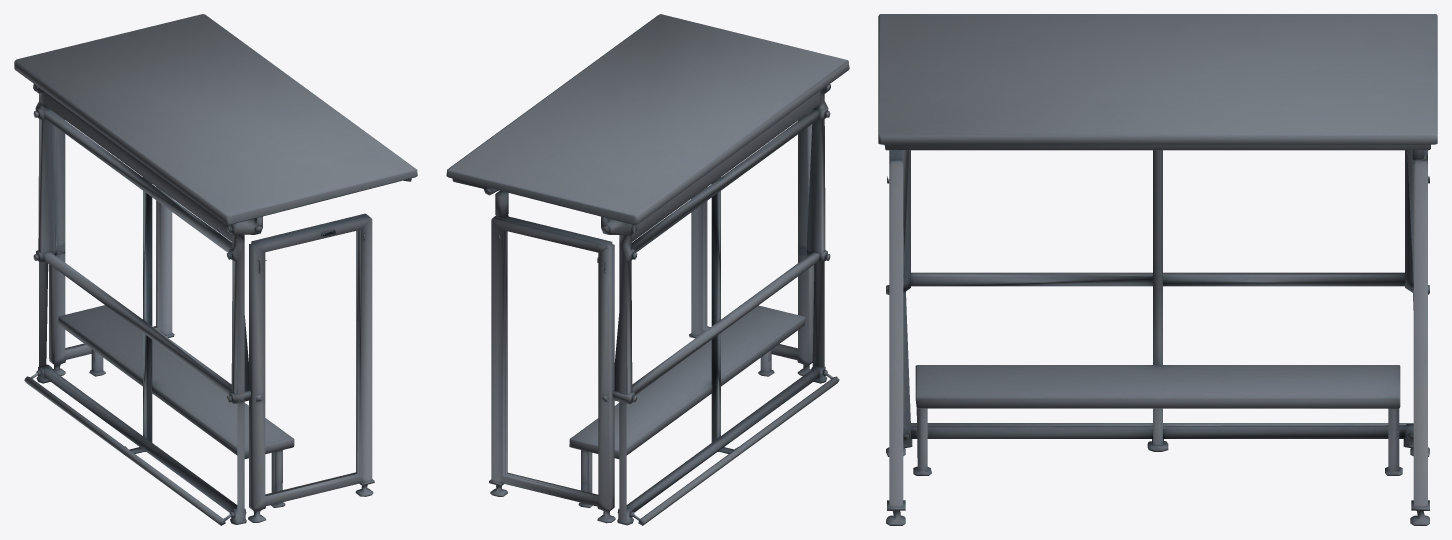
The model's file is bus-shelter.glb.
3 renders of one model, left to right at view 1: azimuth 30°, elevation 25°; view 2: azimuth 150°, elevation 25°; view 3: azimuth 270°, elevation 25°, orthographic. The views are drawn at different scales.
Parts seen in each view (by area): view 1: tripo_node_3d12df1e-6a34-4744-afaa-dd6630c93a7f; view 2: tripo_node_3d12df1e-6a34-4744-afaa-dd6630c93a7f; view 3: tripo_node_3d12df1e-6a34-4744-afaa-dd6630c93a7f.
Part boxes in pixels (x1,y1,x2,y2): tripo_node_3d12df1e-6a34-4744-afaa-dd6630c93a7f: (14,14,417,525); tripo_node_3d12df1e-6a34-4744-afaa-dd6630c93a7f: (446,14,849,525); tripo_node_3d12df1e-6a34-4744-afaa-dd6630c93a7f: (878,14,1437,525).
Bounding box in the file's own units: 0.5176 × 0.8223 × 0.998.
Materials: 1 (1 with a texture image).
